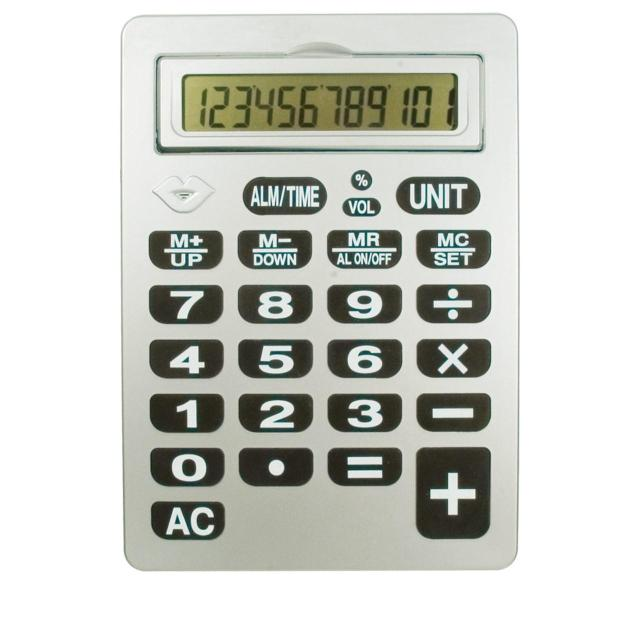Calculator: (99, 5, 614, 620)
